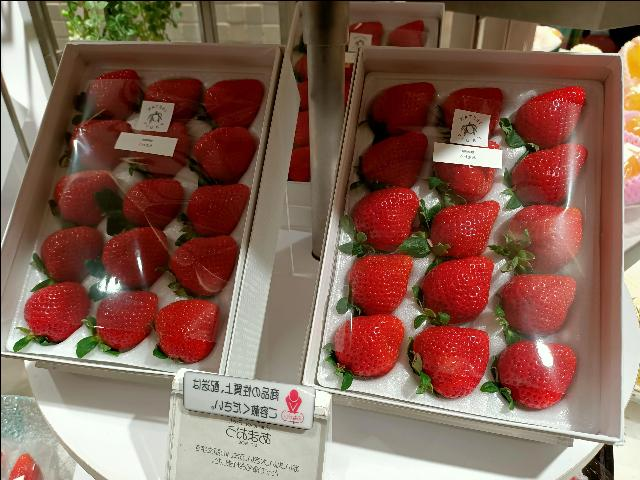Strawberries: (408, 324, 488, 400), (494, 339, 576, 411), (503, 206, 583, 270), (328, 315, 404, 379), (417, 255, 491, 319), (504, 271, 574, 337), (509, 142, 585, 202), (21, 280, 88, 346), (152, 298, 220, 362), (510, 86, 582, 146), (168, 234, 240, 294), (346, 250, 412, 314), (348, 185, 414, 249), (100, 224, 166, 286), (428, 199, 497, 257), (366, 78, 436, 134), (93, 288, 153, 352), (358, 131, 428, 185), (38, 223, 102, 281), (107, 176, 181, 226), (192, 125, 258, 181), (184, 180, 248, 236), (433, 146, 501, 198), (202, 76, 266, 128), (50, 169, 110, 223), (80, 66, 138, 120), (442, 84, 502, 128), (146, 74, 202, 110)
